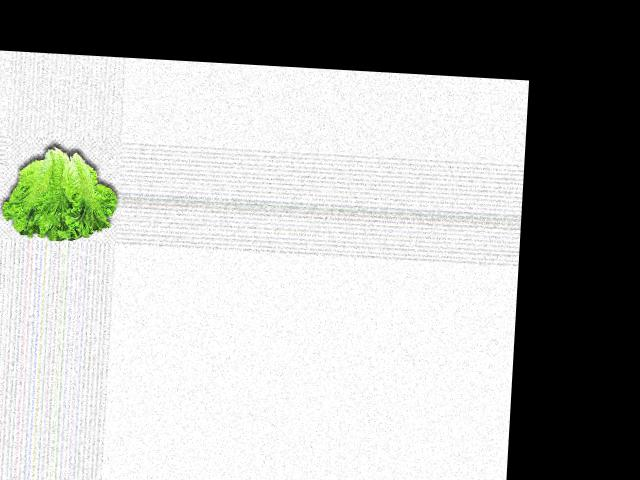lettuce: (3, 141, 123, 243)
